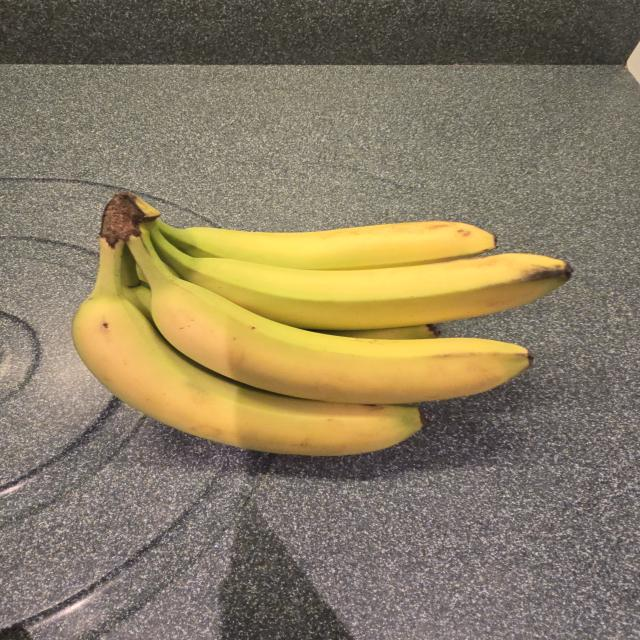Banana: (61, 179, 589, 467)
